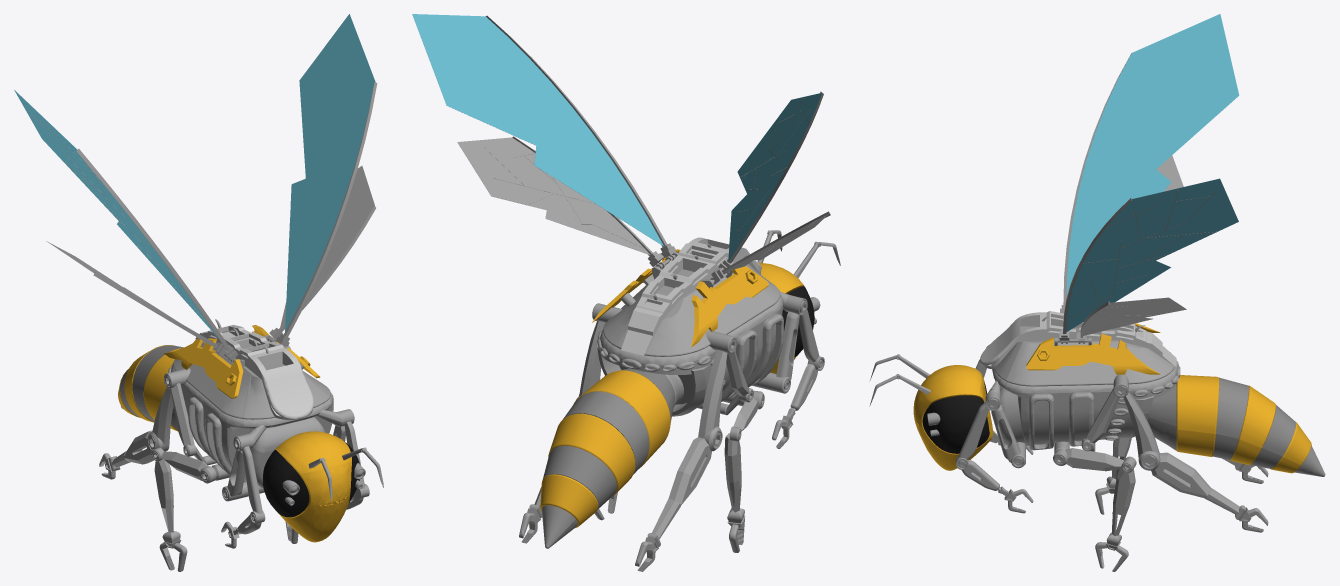
Rendered from bee_hwjyFhn.glb.
3 renders of one model, left to right at view 1: azimuth 30°, elevation 25°; view 2: azimuth 150°, elevation 25°; view 3: azimuth 270°, elevation 25°, orthographic. The views are drawn at different scales.
Visible parts, largest first — view 1: empty_55, empty_32, empty_58, empty_3, empty_38, empty_59, empty_5, empty_108, empty_91, empty_92, empty_117, empty_111 (+5 smaller); view 2: empty_55, empty_32, empty_58, empty_38, empty_93, empty_91, empty_59, empty_92, empty_94, empty_95, empty_117, empty_118 (+13 smaller); view 3: empty_58, empty_55, empty_32, empty_38, empty_91, empty_3, empty_43, empty_4, empty_92, empty_93, empty_71, empty_94 (+9 smaller).
Part boxes in pixels (x1,y1,x2,y2): empty_55: (267,14,377,347); empty_32: (171,341,333,488); empty_58: (14,90,238,363); empty_3: (275,431,351,542); empty_38: (195,325,313,419); empty_59: (164,338,243,398); empty_5: (263,449,309,517); empty_108: (164,368,216,465); empty_91: (143,348,182,431); empty_92: (132,345,183,421); empty_117: (147,387,173,451); empty_111: (151,447,208,480); empty_55: (412,14,676,269); empty_32: (600,258,783,405); empty_58: (710,91,830,284); empty_38: (621,237,761,355); empty_93: (548,413,635,496); empty_91: (574,370,670,468); empty_59: (691,266,768,347); empty_92: (563,391,649,474); empty_94: (543,445,616,509); empty_95: (540,474,598,527); empty_117: (698,349,727,451); empty_118: (668,437,711,505); empty_58: (1060,14,1239,313); empty_55: (1057,178,1238,343); empty_32: (993,326,1177,450); empty_38: (980,311,1176,369); empty_91: (1176,375,1219,456); empty_3: (913,365,993,470); empty_43: (1026,334,1160,374); empty_4: (922,395,989,453); empty_92: (1212,377,1248,459); empty_93: (1230,385,1275,464); empty_71: (1151,452,1210,498); empty_94: (1250,405,1295,468).
Bounding box in the file's own units: 305 × 405 × 370.
